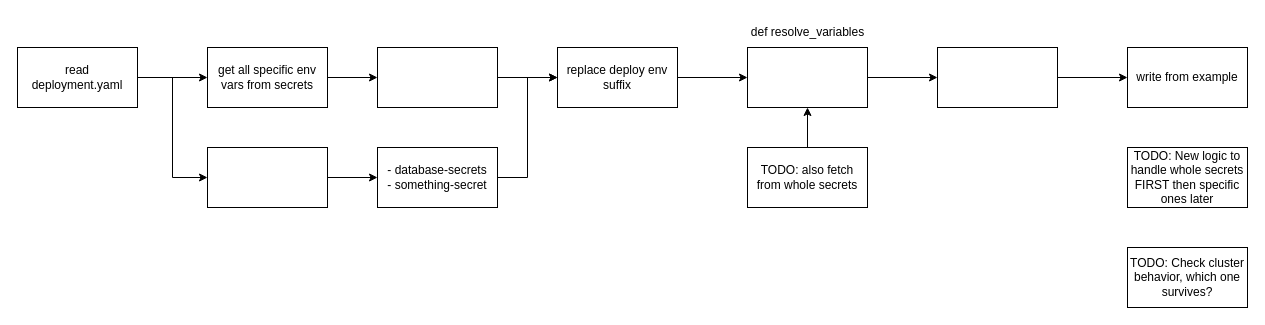
The diagram is 1265 pixels wide and 325 high, and some of its shapes have lost their labels. The shapes that lost their labels are listed below. From the top down, each one's centre as x and y in pixels, then its label:
point 437,77: LOG_LEVEL - from - app-secrets
point 807,77: fetch all necessary secrets from cluster
point 997,77: base64 decode
point 267,177: get all whole secrets being imported
